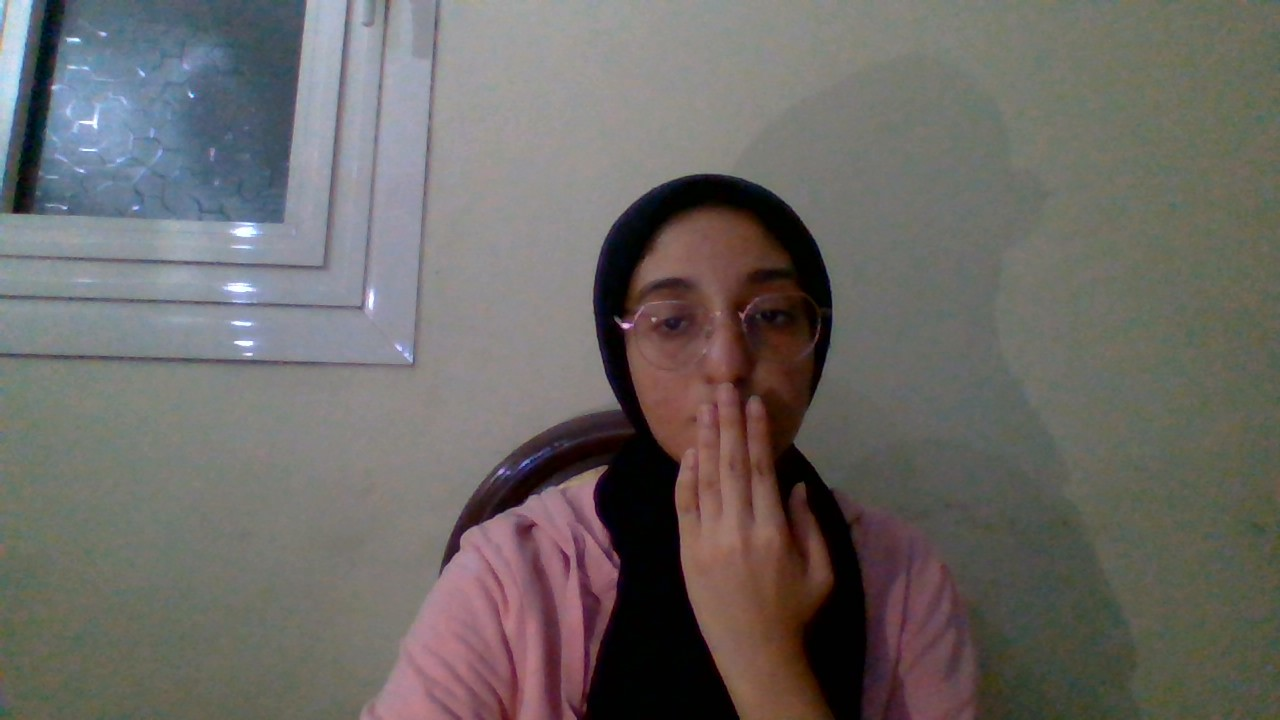thankyou: (564, 358, 895, 642)
